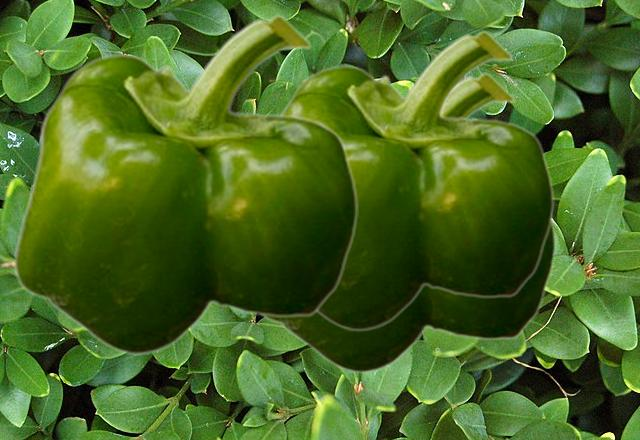bell_pepper: (13, 14, 357, 355), (260, 72, 555, 373), (280, 30, 553, 331)
